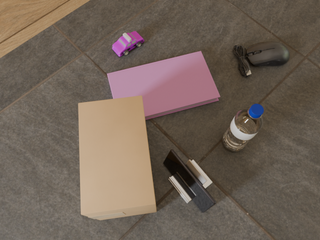book: (107, 51, 220, 120)
bottle: (222, 104, 264, 151)
box: (79, 96, 156, 220)
mouse: (233, 42, 289, 77)
phone: (163, 149, 216, 212)
toy_car: (112, 31, 144, 57)
